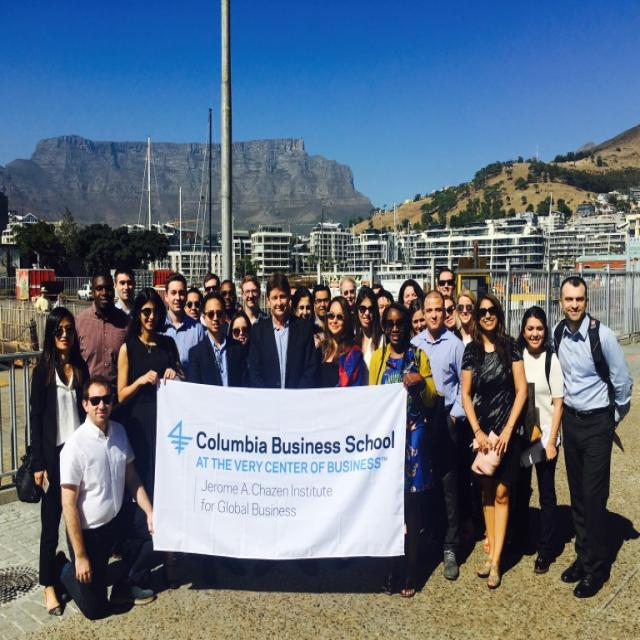body: (47, 368, 165, 624), (549, 273, 634, 600), (458, 289, 530, 592), (114, 286, 186, 587), (367, 301, 438, 606), (28, 305, 92, 619), (408, 291, 468, 583), (502, 303, 566, 576), (72, 266, 132, 430), (246, 272, 316, 388), (186, 289, 249, 389), (154, 271, 206, 378), (314, 294, 367, 388), (351, 287, 390, 387), (289, 284, 324, 388), (235, 272, 272, 328), (338, 275, 364, 339), (453, 287, 479, 349), (113, 264, 137, 316), (218, 278, 238, 340), (441, 292, 463, 342), (227, 309, 253, 349), (311, 284, 332, 331), (397, 277, 425, 311), (375, 290, 397, 332), (436, 266, 458, 299), (184, 288, 203, 322), (33, 285, 51, 313), (202, 272, 222, 292), (53, 292, 66, 309), (367, 280, 385, 292), (288, 282, 300, 294)
